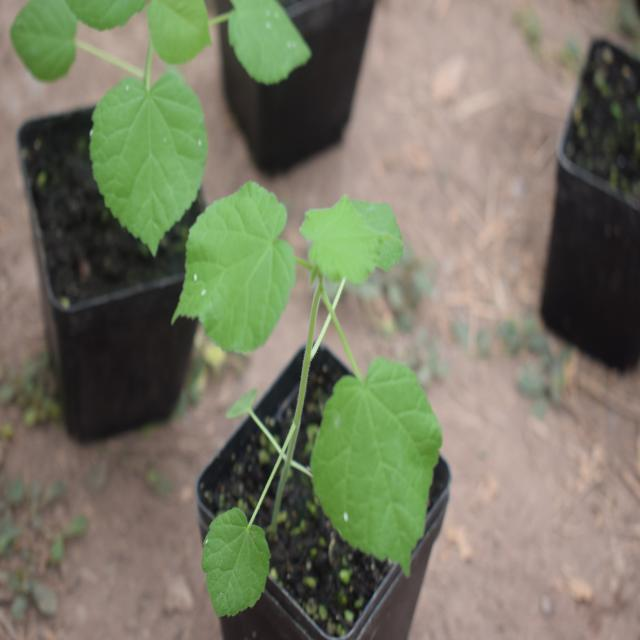abutilon theophrasti: (159, 140, 443, 561)
